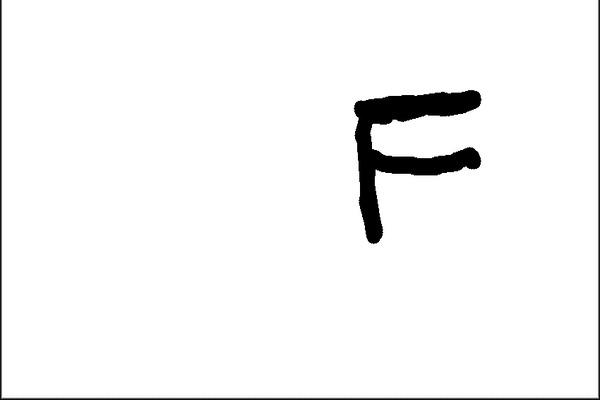F: (347, 86, 488, 245)
